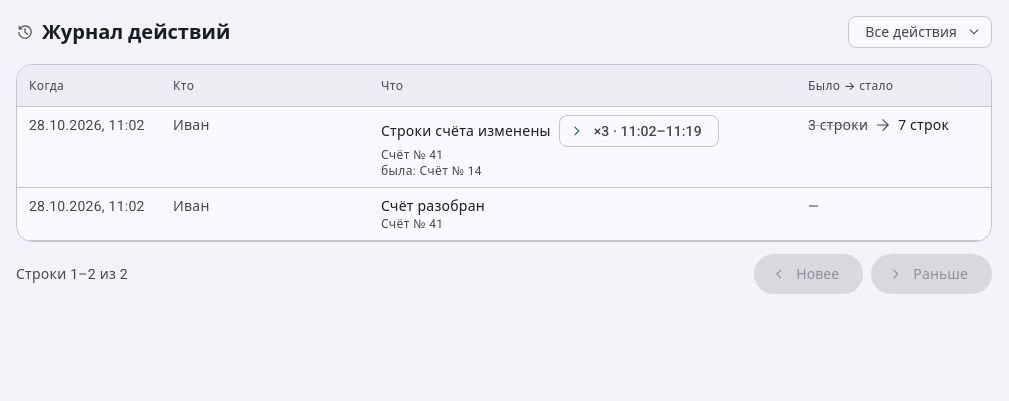
Test: журнал действий рядами › серия выросла при раскрытом ряде — записи перечитываются, а не объявляются обрезанными
This screenshot has width=1009, height=401.
Click the button named "показать записи" at (639,131), box [559,115,719,147]
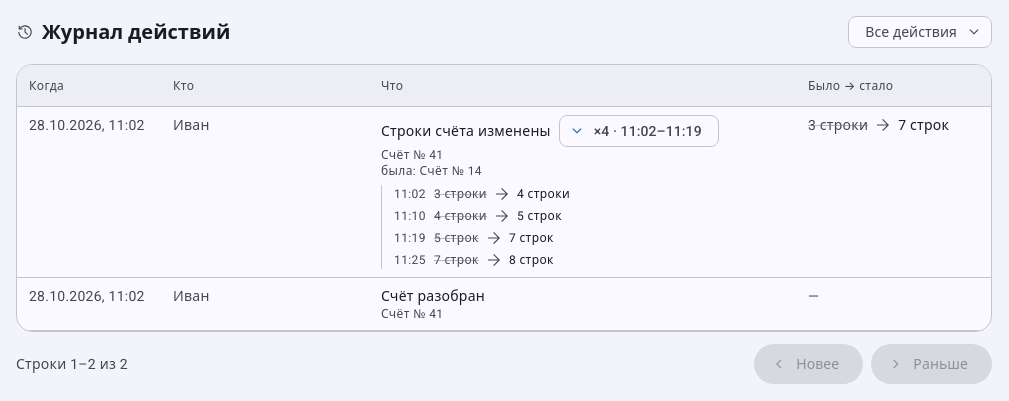
Expected: the list named "Записи ряда" is shown, [381,185,784,269]
Expected: the number of list items is 4, [394,185,570,203]; [394,207,562,225]; [394,229,554,247]; [394,251,554,269]
